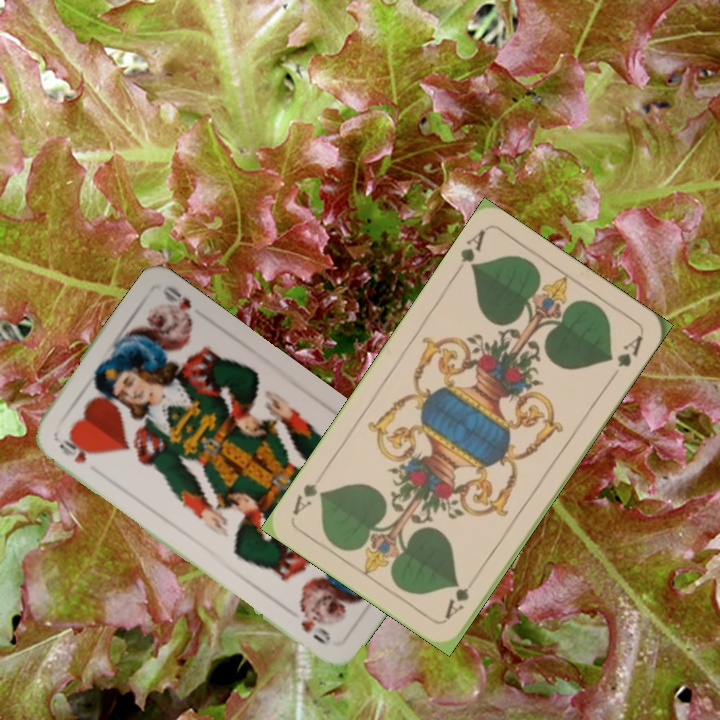GA: (440, 571, 480, 623), (449, 226, 488, 279)
HO: (55, 434, 95, 466)
